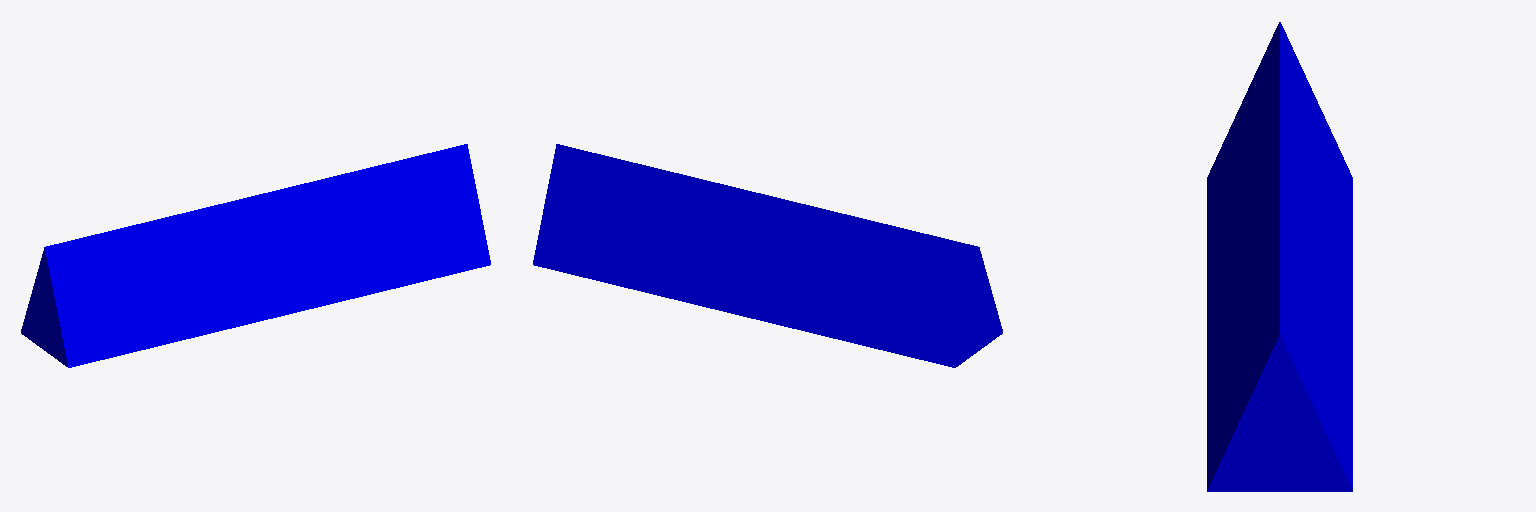
robot.urdf — long_edge.urdf:
<?xml version="1.0" ?>
<robot name="long_edge.urdf">

  <link name="long_edge">
    <contact>
    	<friction_anchor/>
    	   <lateral_friction value="1.0"/>
    </contact>
    <inertial>
      <origin rpy="0 0 0" xyz="0 0 0"/>
       <mass value=".1"/>
       <inertia ixx="1" ixy="0" ixz="0" iyy="1" iyz="0" izz="1"/>
    </inertial>
    <visual>
      <origin rpy="0 0 0" xyz="0 0 0"/>
      <geometry>
				<mesh filename="long_edge.obj" scale="1.0 1.0 1.0"/>
      </geometry>
       <material name="blue">
        <color rgba="0 0 1 1.0"/>
      </material>
    </visual>
    <collision>
      <origin rpy="0 0 0" xyz="0 0 0"/>
      <geometry>
				<mesh filename="long_edge.obj" scale="1.0 1.0 1.0"/>
      </geometry>
    </collision>
  </link>


</robot>

--- What the picture shows (computed from the rendered views, not written in the file) ---
Views: 3 orthographic renders of the robot side by side, from view 1: azimuth 30°, elevation 25°; view 2: azimuth 150°, elevation 25°; view 3: azimuth 270°, elevation 25°.
Model long_edge.urdf with 1 links and 0 joints (none), rooted at long_edge, posed all joints at 0.
Visible links, largest first — view 1: long_edge; view 2: long_edge; view 3: long_edge.
Boxes of the visible links, left/top/right/bottom form: long_edge: left=21, top=144, right=490, bottom=367; long_edge: left=533, top=144, right=1002, bottom=367; long_edge: left=1207, top=22, right=1352, bottom=491.
Bounding box of the posed robot: 0.16 × 0.0315 × 0.0375 m (x, y, z).
Meshes: 1 distinct files referenced, 1 mesh visuals loaded (1 OBJ).